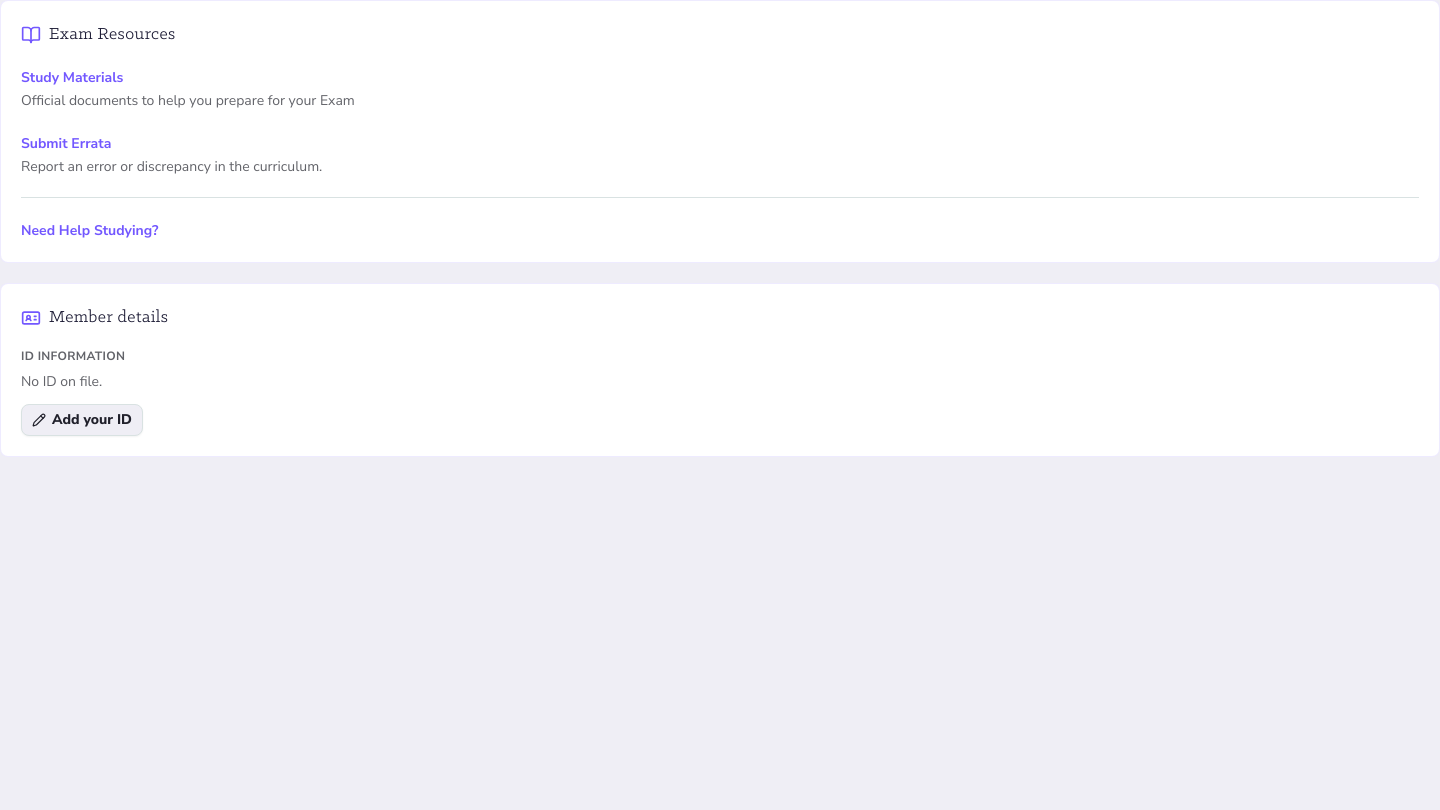
Scenario: the member details block › offers the empty-handed OSTA candidate the Add control — they need it most
This screenshot has width=1440, height=810.
Check: the text "No ID on file." is shown, box [21,372,102,391]
Click the button "Add your ID": (82, 420) [21,404,143,436]
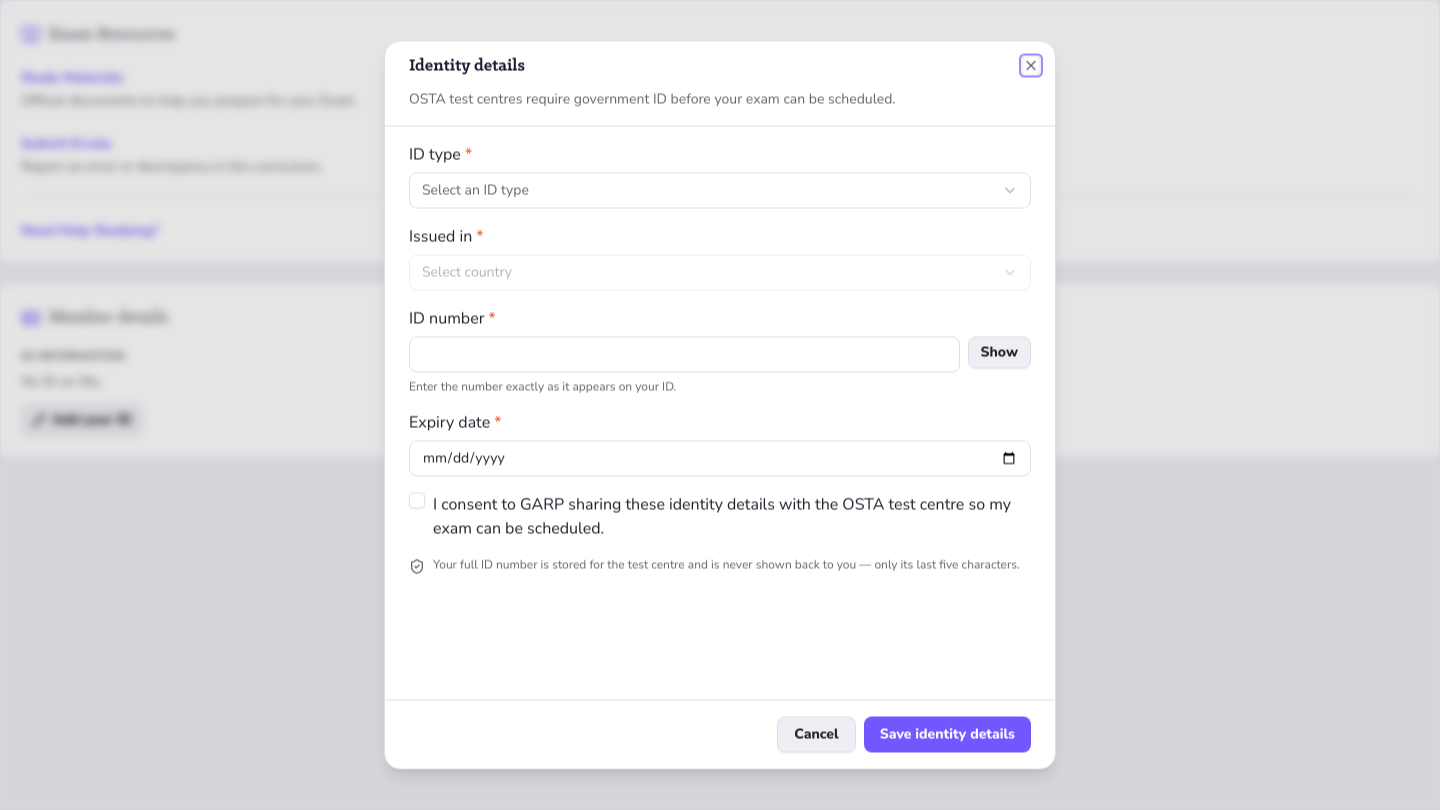
Check: the dialog "Identity details" is shown, box [384,40,1056,770]
